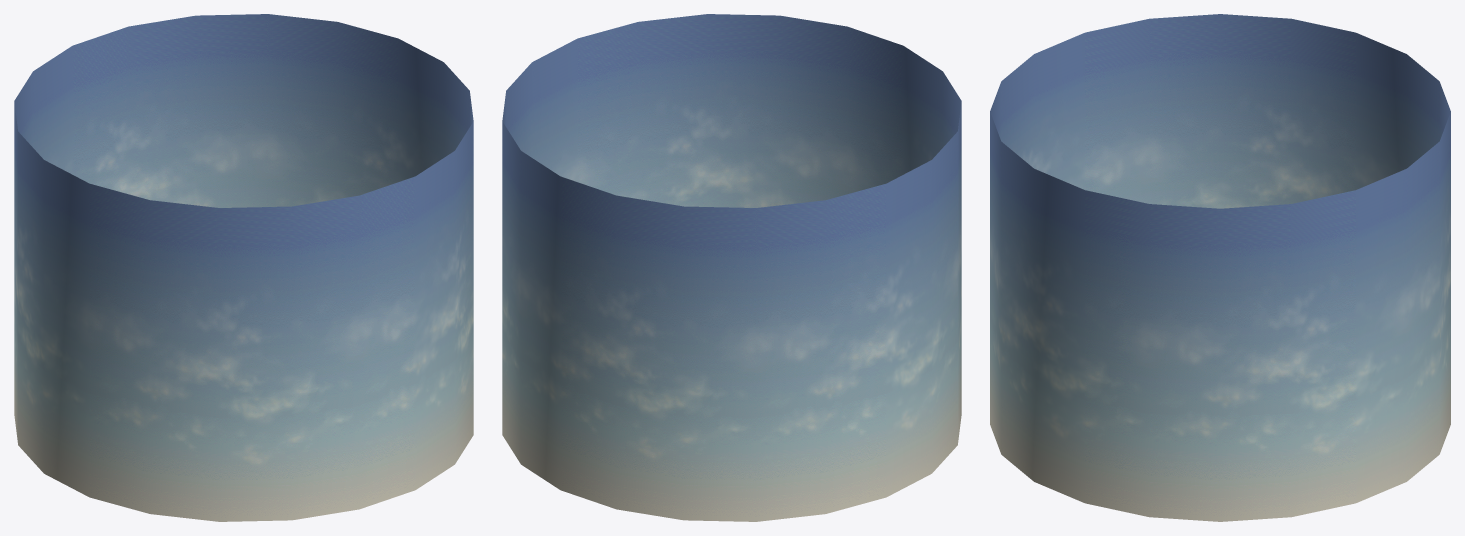
The model's file is westerntown.obj.
3 views of the same model, side by side, from view 1: azimuth 30°, elevation 25°; view 2: azimuth 150°, elevation 25°; view 3: azimuth 270°, elevation 25° (orthographic).
Parts seen in each view (by area): view 1: duelb_7.png2; view 2: duelb_7.png2; view 3: duelb_7.png2.
Boxes of the visible parts, x1,y1,x2,y2 form: duelb_7.png2: [14, 14, 473, 521]; duelb_7.png2: [502, 14, 961, 521]; duelb_7.png2: [990, 14, 1450, 521].
Size of the model in its own units: 20000 by 15000 by 20000.
11 materials, 11 textured.
